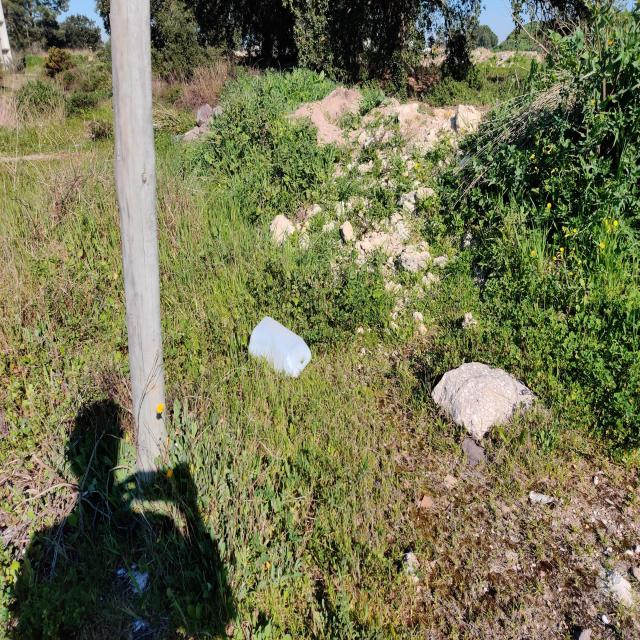litter: (248, 316, 312, 378)
